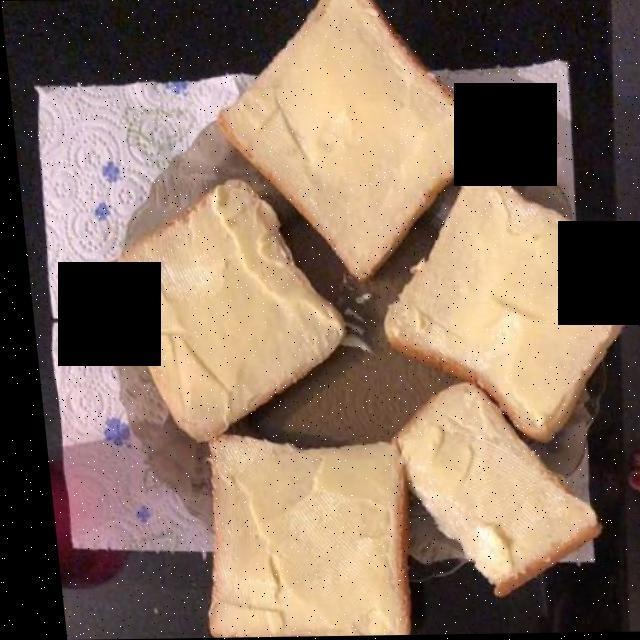bread: (74, 0, 640, 618)
butter: (89, 15, 610, 613)
